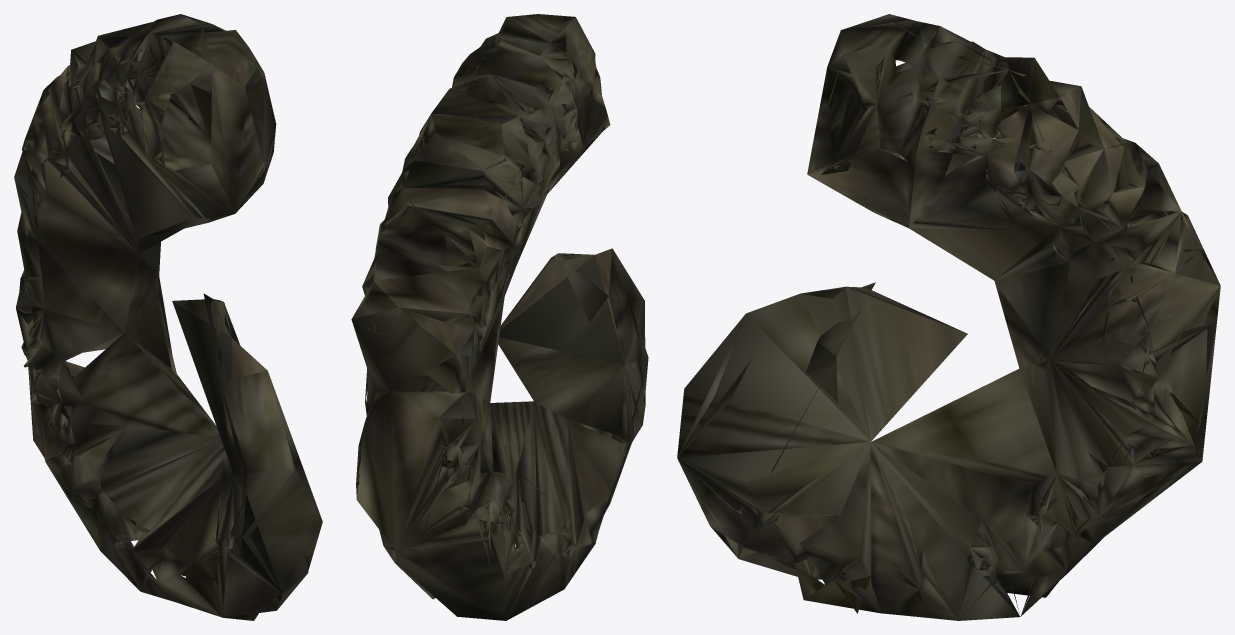
Rendered from chifre_runico.glb.
3 views of the same model, side by side, from view 1: azimuth 30°, elevation 25°; view 2: azimuth 150°, elevation 25°; view 3: azimuth 270°, elevation 25° (orthographic). The views are drawn at different scales.
Parts seen in each view (by area): view 1: geometry_0; view 2: geometry_0; view 3: geometry_0.
Part boxes in pixels (x1,y1,x2,y2): geometry_0: (14, 14, 322, 620); geometry_0: (351, 14, 648, 620); geometry_0: (677, 14, 1220, 620).
Size of the model in its own units: 0.2388 by 1 by 0.8558.
Materials: 1 (1 with a texture image).
